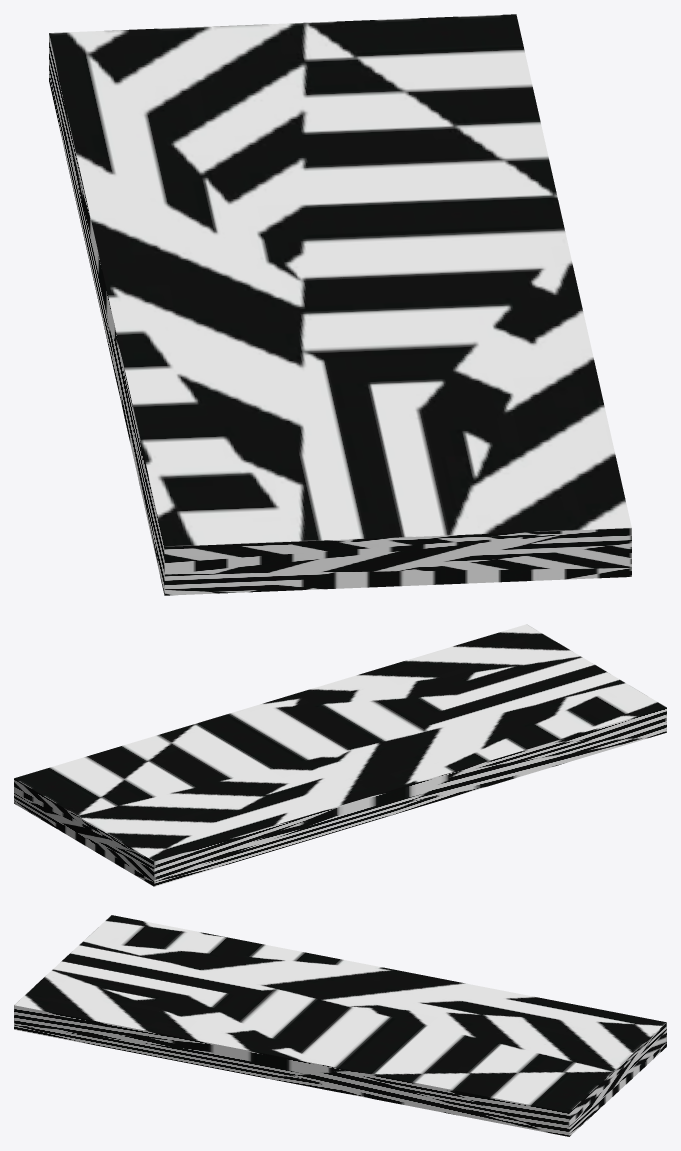
3 views of the same model, one above another, from view 1: azimuth 30°, elevation 25°; view 2: azimuth 150°, elevation 25°; view 3: azimuth 270°, elevation 25° (orthographic). The views are drawn at different scales.
Visible parts, largest first — view 1: Cube.010; view 2: Cube.010; view 3: Cube.010.
Part boxes in pixels (bbox=[...]): Cube.010: bbox=[49, 14, 631, 595]; Cube.010: bbox=[14, 624, 666, 886]; Cube.010: bbox=[14, 915, 666, 1136].
Size of the model in its own units: 6.22 by 0.3583 by 8.69.
1 material, 1 textured.
